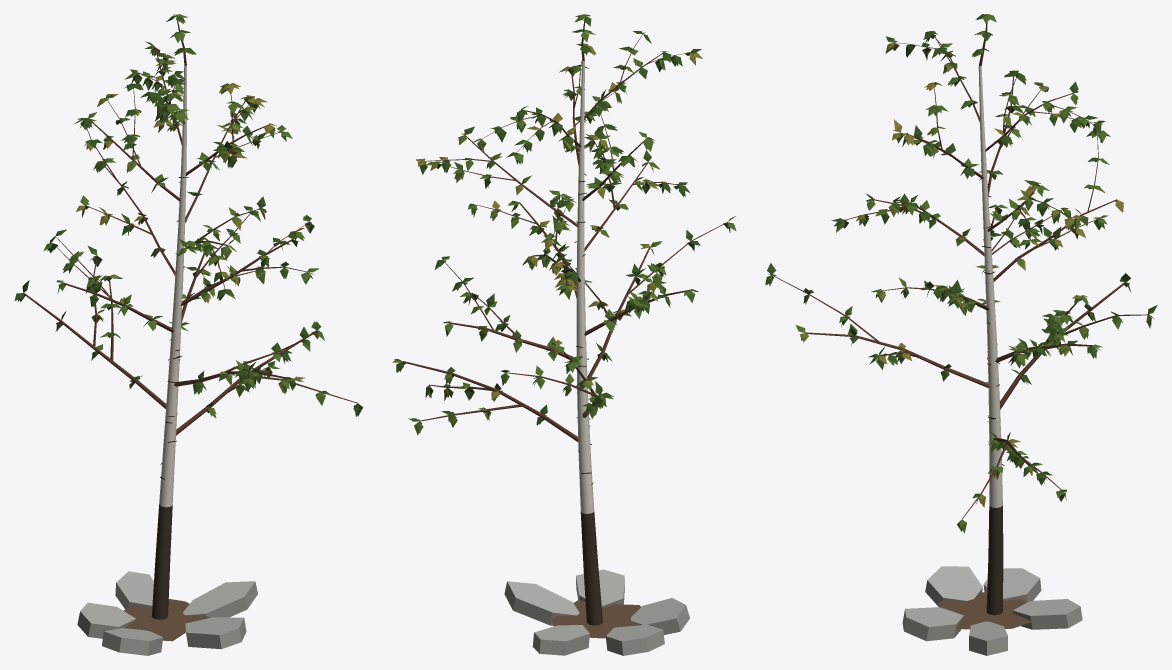
Rendered from sapling.glb.
3 renders of one model, left to right at view 1: azimuth 30°, elevation 25°; view 2: azimuth 150°, elevation 25°; view 3: azimuth 270°, elevation 25°, orthographic.
Visible parts, largest first — view 1: teil9, teil6, teil7, teil2, teil4, teil1, teil8, teil3, teil0; view 2: teil9, teil7, teil6, teil2, teil4, teil1, teil8, teil3, teil0; view 3: teil9, teil7, teil6, teil2, teil4, teil1, teil8, teil0, teil3.
Part boxes in pixels (left/top/right/bottom): teil9: left=14, top=15, right=361, bottom=417; teil6: left=23, top=15, right=357, bottom=435; teil7: left=17, top=14, right=363, bottom=417; teil2: left=80, top=571, right=254, bottom=640; teil4: left=159, top=65, right=187, bottom=507; teil1: left=77, top=581, right=257, bottom=655; teil8: left=76, top=48, right=361, bottom=406; teil3: left=151, top=505, right=172, bottom=619; teil0: left=123, top=599, right=208, bottom=641; teil9: left=394, top=14, right=735, bottom=425; teil7: left=392, top=14, right=736, bottom=435; teil6: left=402, top=16, right=727, bottom=441; teil2: left=507, top=569, right=685, bottom=641; teil4: left=576, top=60, right=594, bottom=513; teil1: left=504, top=576, right=689, bottom=655; teil8: left=400, top=43, right=702, bottom=426; teil3: left=580, top=512, right=602, bottom=625; teil0: left=551, top=599, right=640, bottom=638; teil9: left=766, top=14, right=1157, bottom=529; teil7: left=765, top=14, right=1152, bottom=533; teil6: left=772, top=14, right=1147, bottom=519; teil2: left=905, top=566, right=1080, bottom=640; teil4: left=978, top=66, right=1002, bottom=507; teil1: left=902, top=578, right=1082, bottom=655; teil8: left=800, top=40, right=1123, bottom=523; teil0: left=937, top=592, right=1032, bottom=629; teil3: left=986, top=505, right=1003, bottom=615.
Size of the model in its own units: 1.52 by 3.11 by 1.79.
